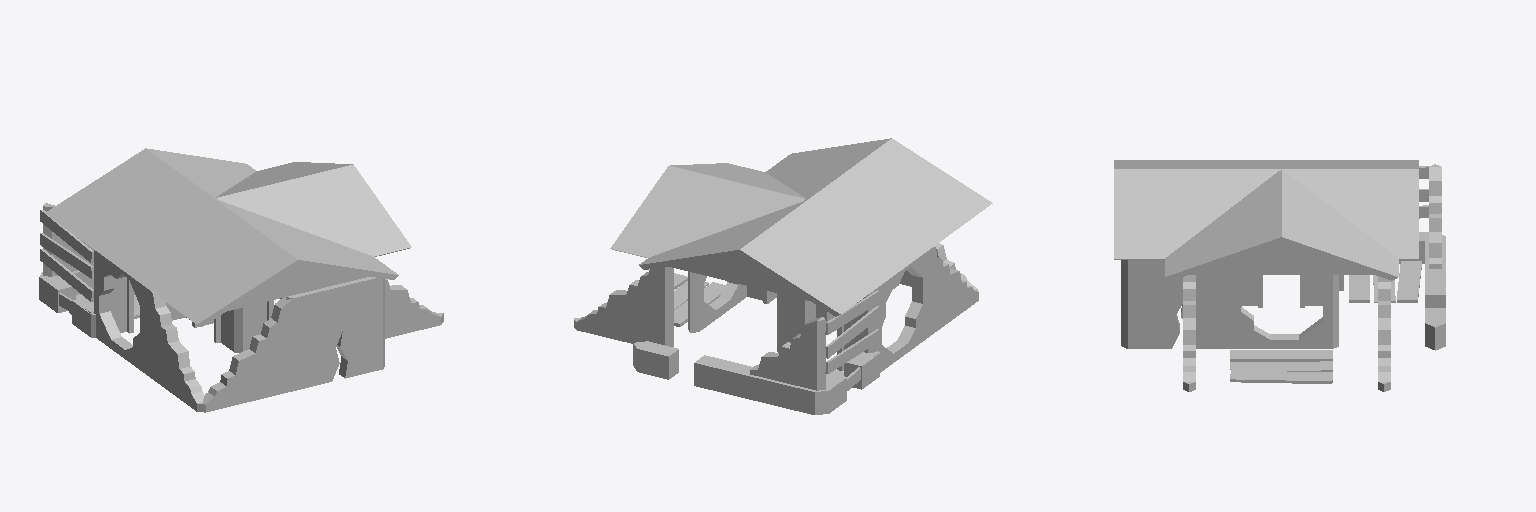
File: Casa 5 Semi Rota.obj
The picture shows the model from 3 angles: view 1: azimuth 30°, elevation 25°; view 2: azimuth 150°, elevation 25°; view 3: azimuth 270°, elevation 25°; orthographic projection.
Bounding box in the file's own units: 3.2 × 1.44 × 3.24.